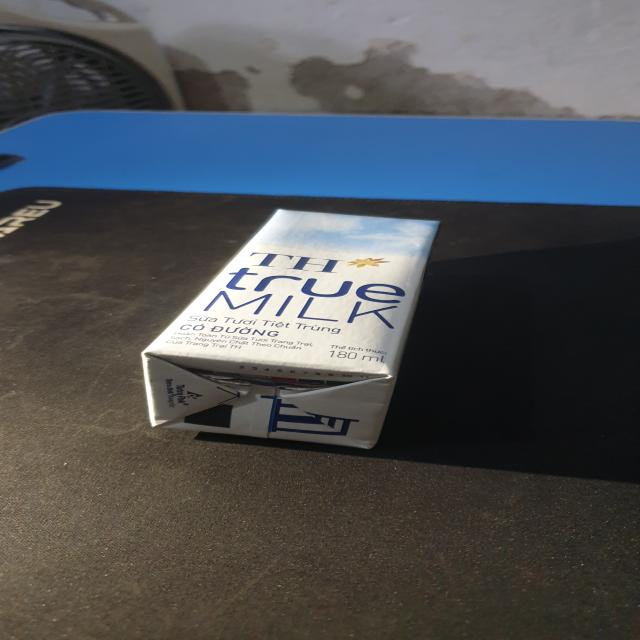TH: (127, 203, 451, 456)
